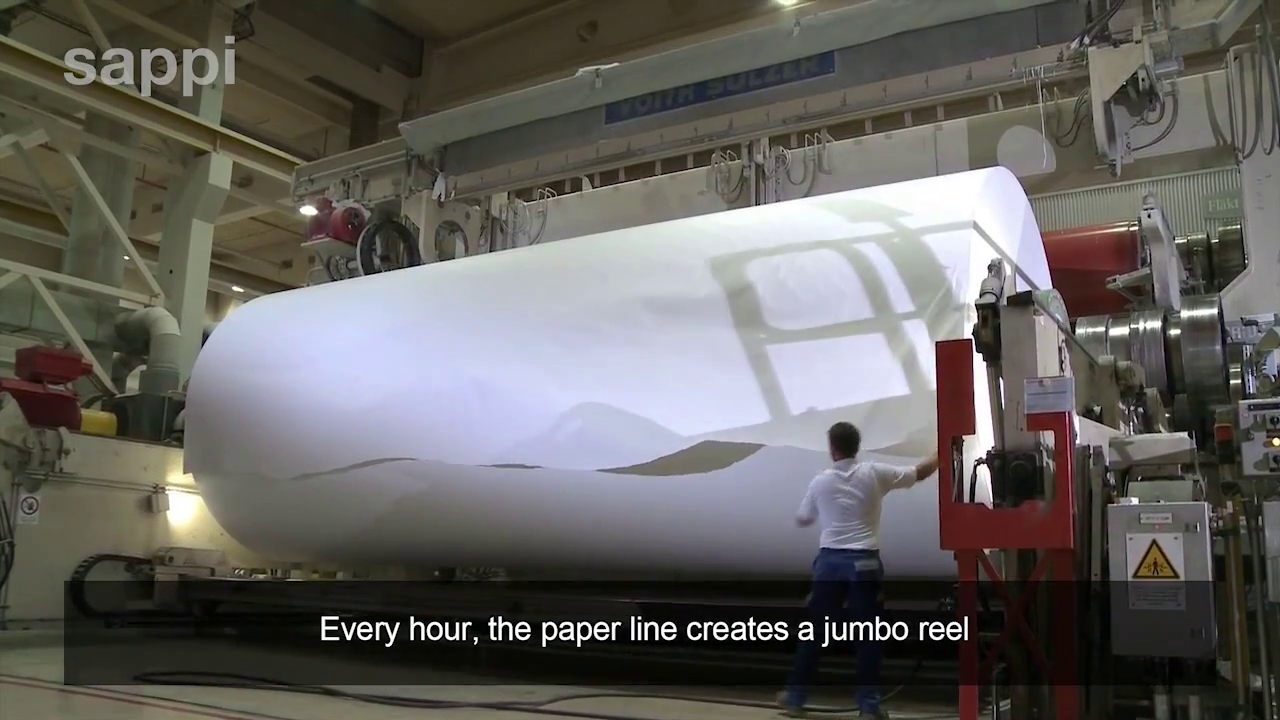person: (776, 422, 939, 720)
